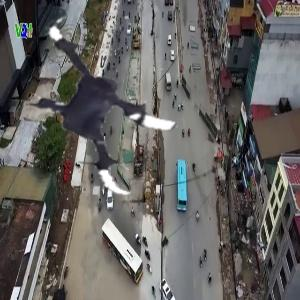drone: (12, 10, 206, 204)
